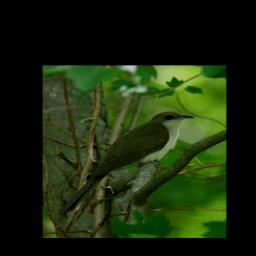Cuckoo: (57, 110, 195, 218)
